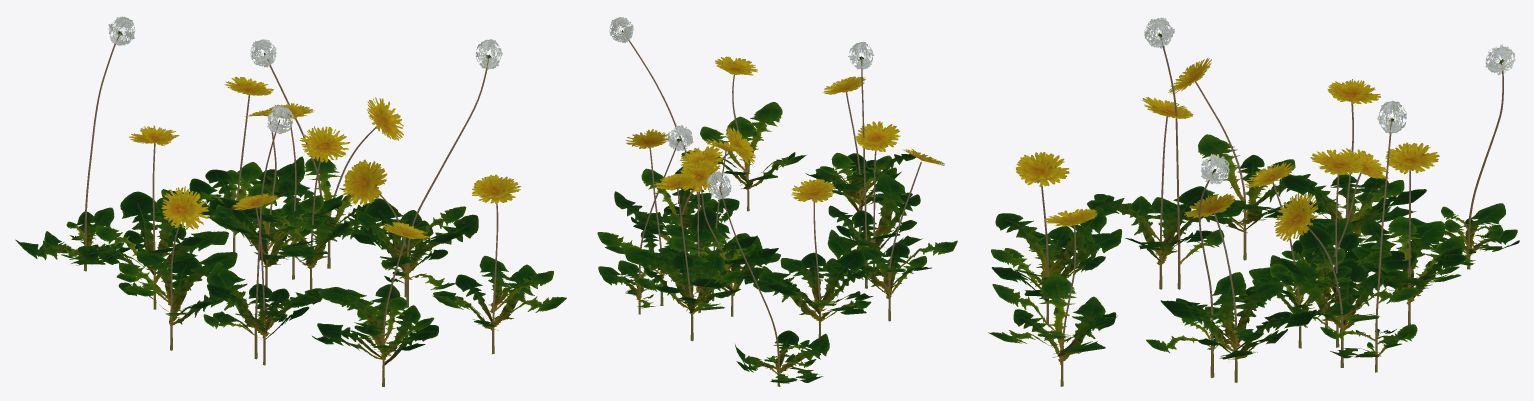
3 renders of one model, left to right at view 1: azimuth 30°, elevation 25°; view 2: azimuth 150°, elevation 25°; view 3: azimuth 270°, elevation 25°, orthographic. The views are drawn at different scales.
Parts seen in each view (by area): view 1: SM_Dandelion_03_LOD0; view 2: SM_Dandelion_03_LOD0; view 3: SM_Dandelion_03_LOD0.
Boxes of the visible parts, x1,y1,x2,y2 form: SM_Dandelion_03_LOD0: (15,16,566,386); SM_Dandelion_03_LOD0: (597,17,957,386); SM_Dandelion_03_LOD0: (988,17,1519,386).
Size of the model in its own units: 1.1 by 0.7152 by 1.23.
Materials: 1 (1 with a texture image).
